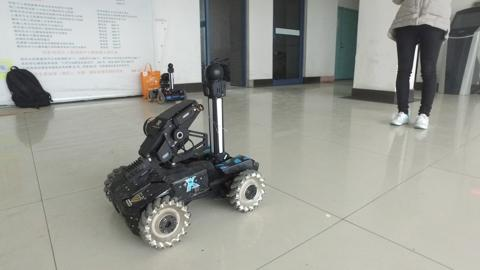bag: (2, 58, 58, 116)
chariot: (100, 61, 270, 252), (145, 64, 190, 106)
